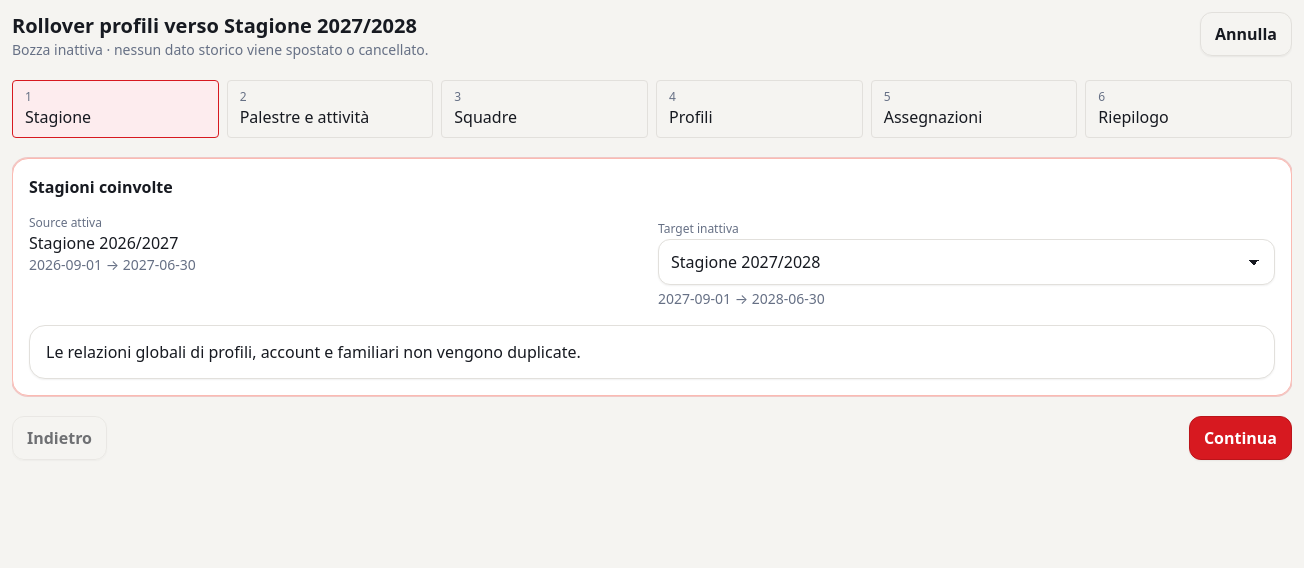
Test: SeasonRolloverWizard › blocks preview requests while offline
Click the button "Continua" at [1240, 438], box x1=1189 y1=416 x2=1292 y2=460
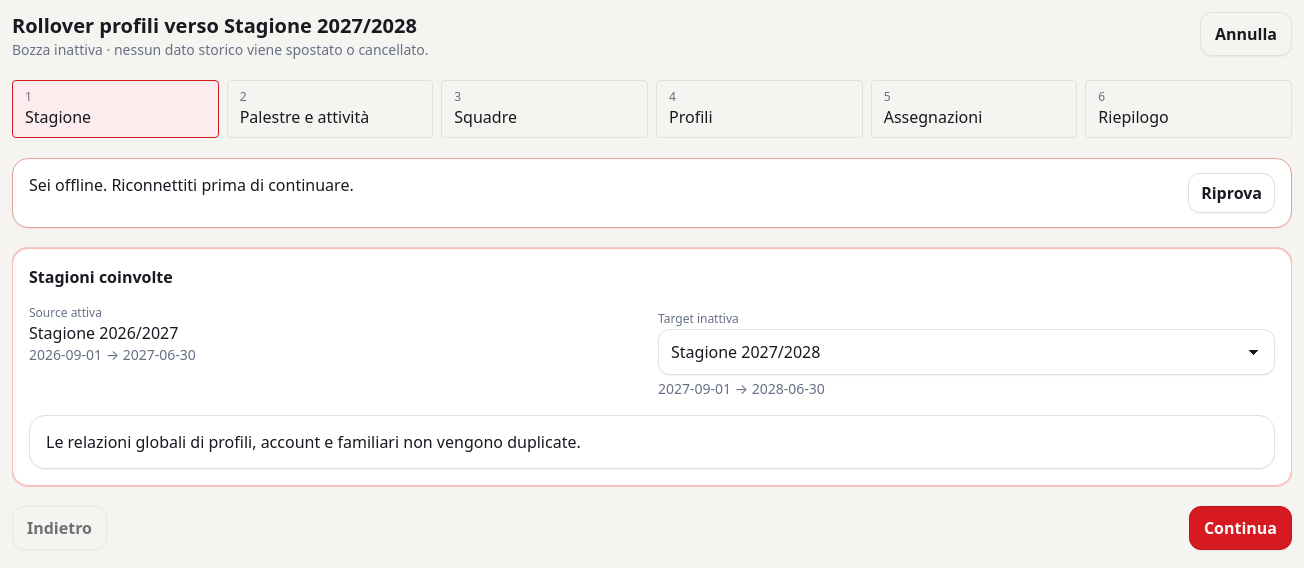
Now the message shows "Sei offline", box x1=29 y1=174 x2=354 y2=196
